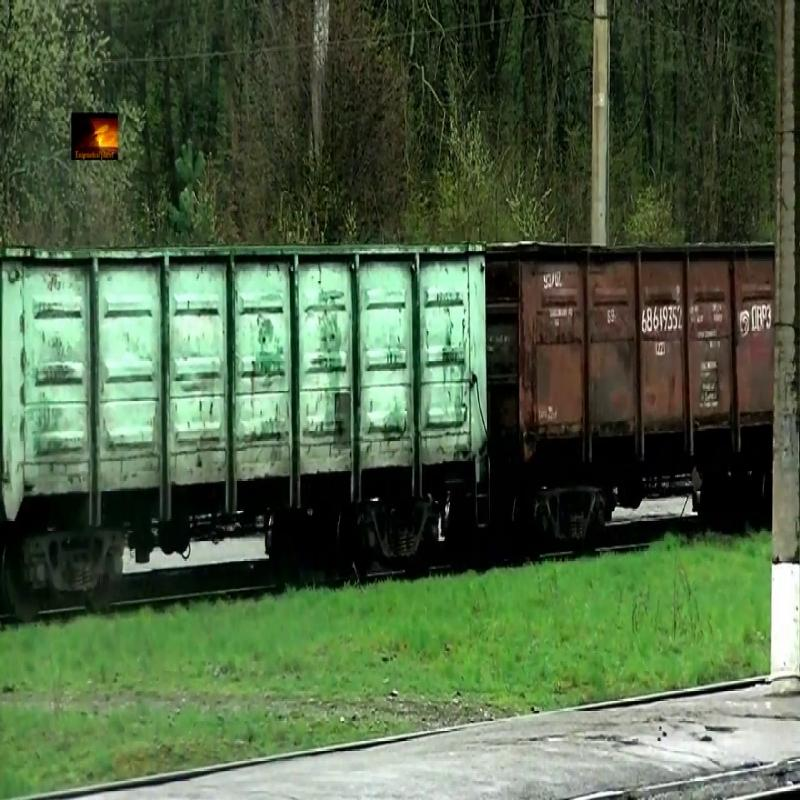train: (1, 241, 489, 525), (491, 245, 776, 476)
